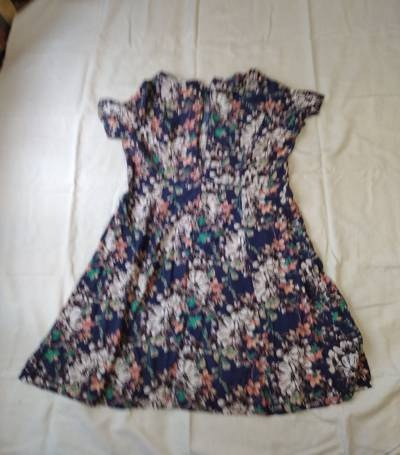Dress: (25, 59, 383, 419)
